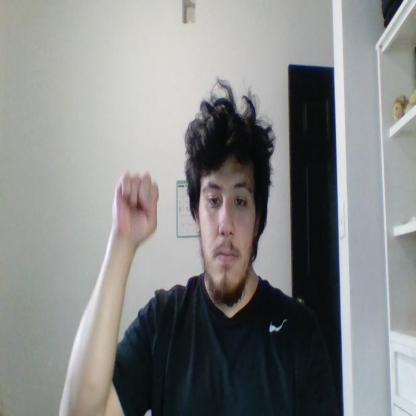S: (112, 172, 158, 248)
